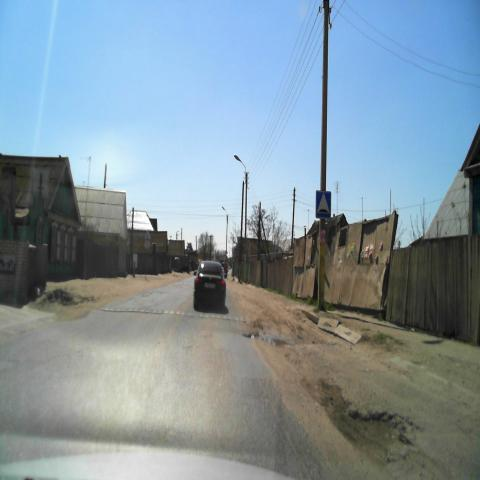5_20: (315, 190, 331, 219)
